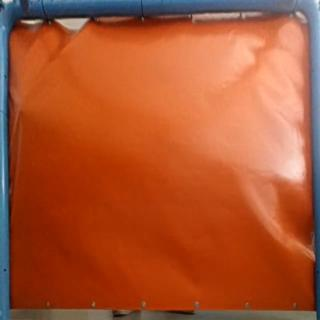Hit-hRxx: (15, 104, 33, 121)
